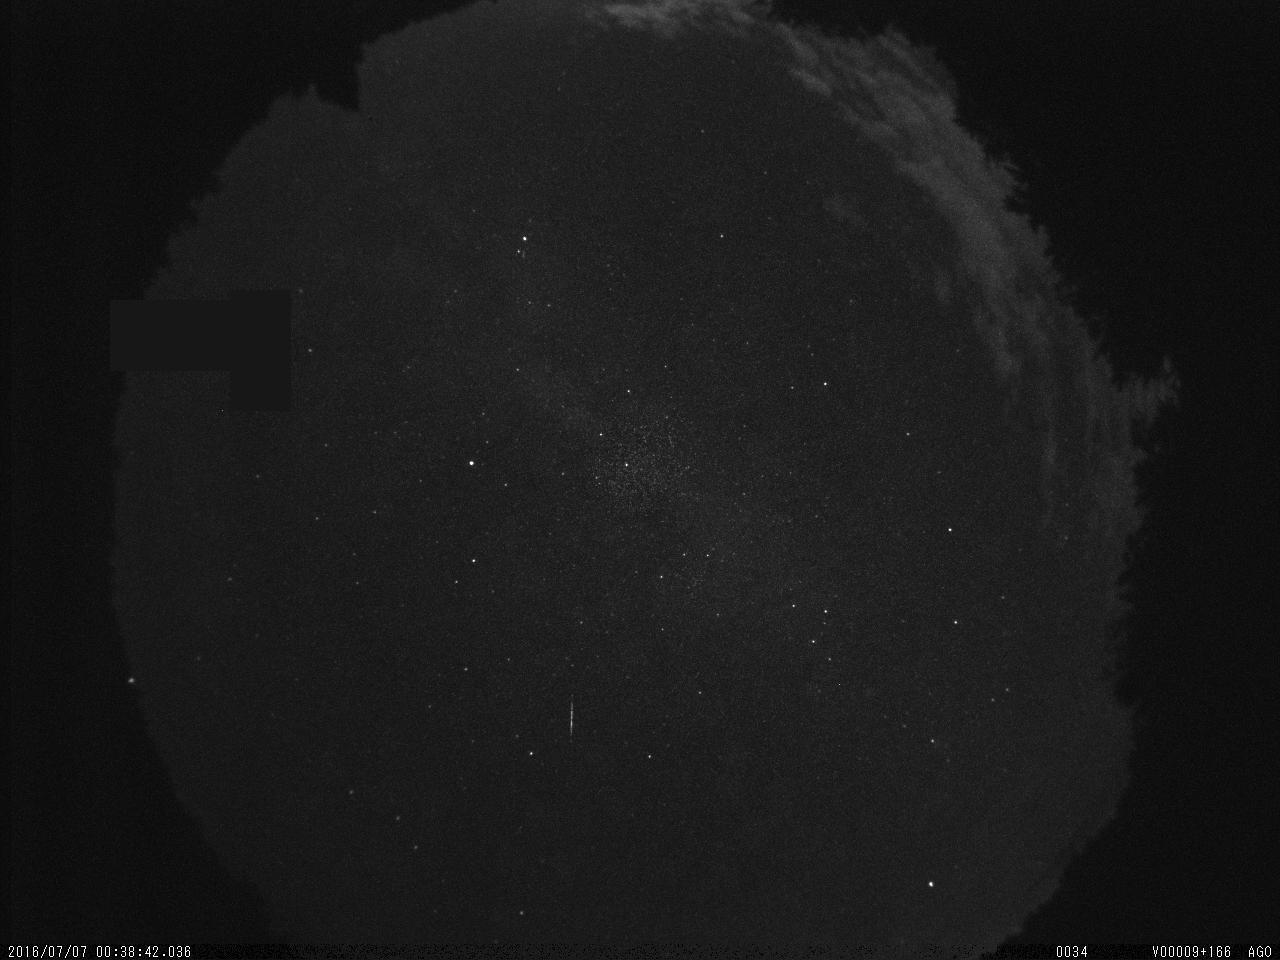meteor: (563, 685, 590, 748)
